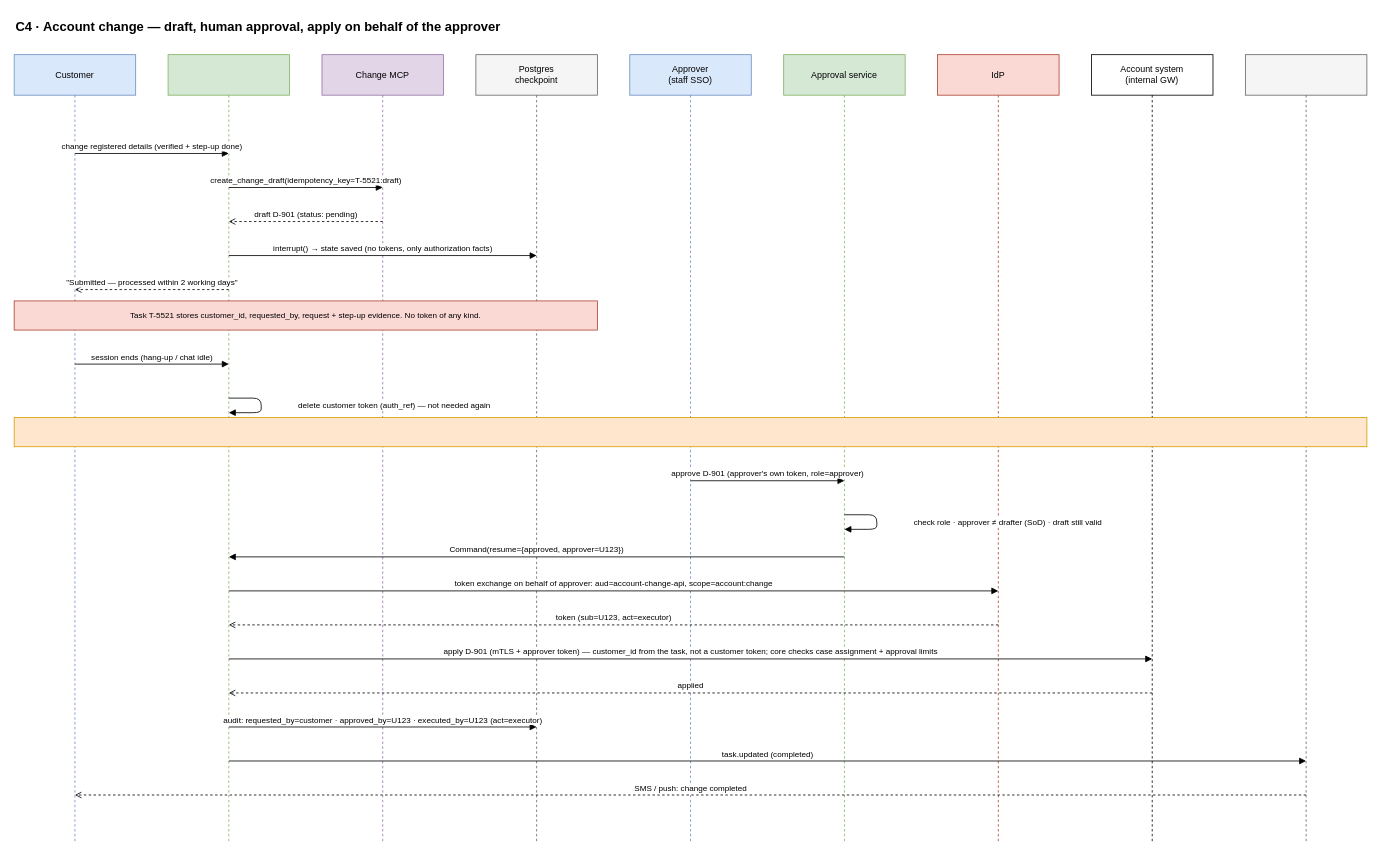
Image size: 1381x858. Some labels were removed from this diagram. The shapes that lost their labels are listed below. From the top down, each one's centre as x and y in pixels, then its label:
point (228, 449): Orchestrator (LangGraph)
point (690, 432): … hours / days later …
point (1306, 449): Kafka → notify
